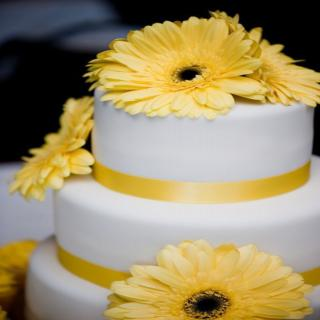Cake: (26, 90, 319, 320)
